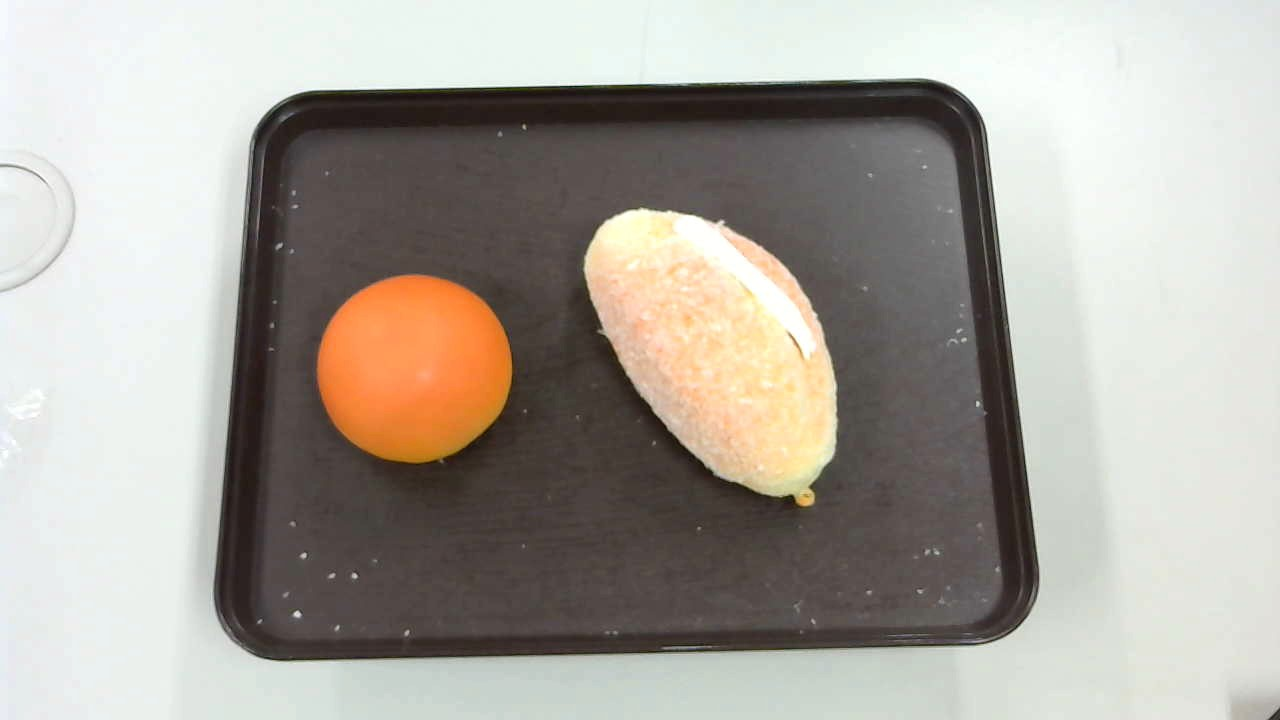bun: (317, 273, 512, 462)
coconut: (582, 207, 839, 506)
